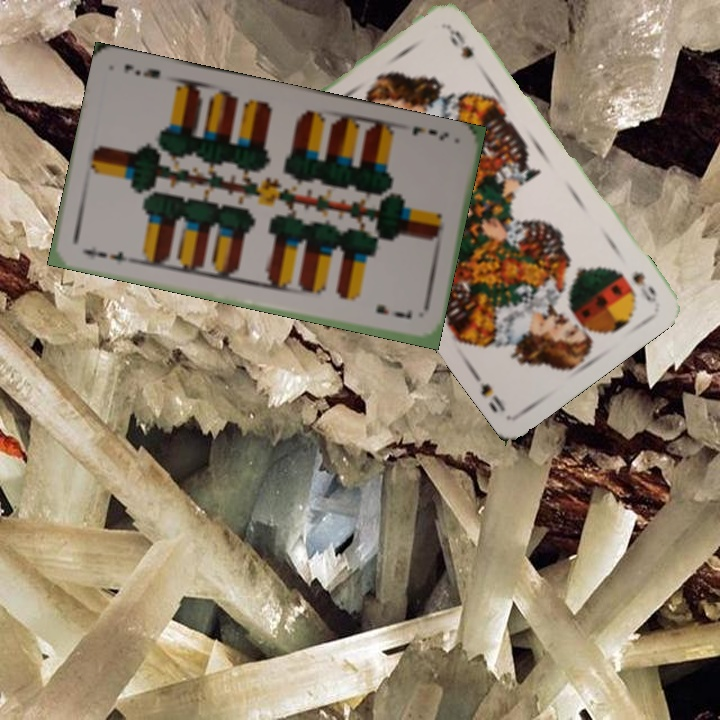E7: (78, 242, 133, 265), (408, 122, 451, 144)
SO: (628, 267, 660, 306)
